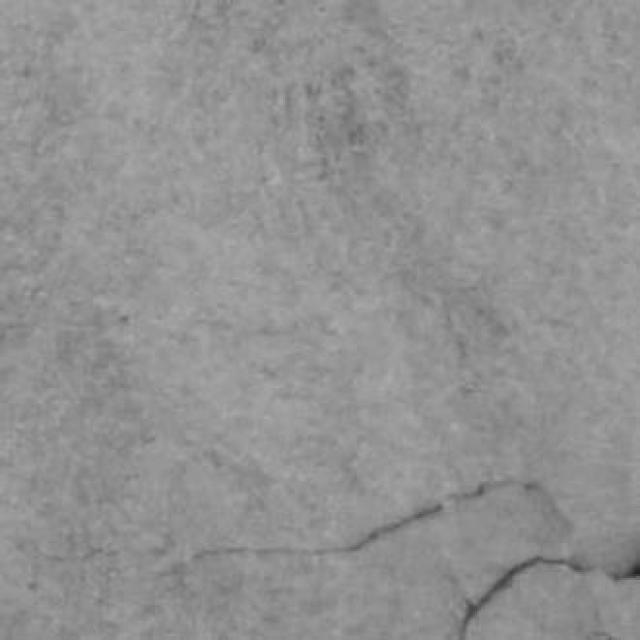crack: (189, 480, 543, 564), (458, 557, 597, 639), (458, 557, 581, 639)
